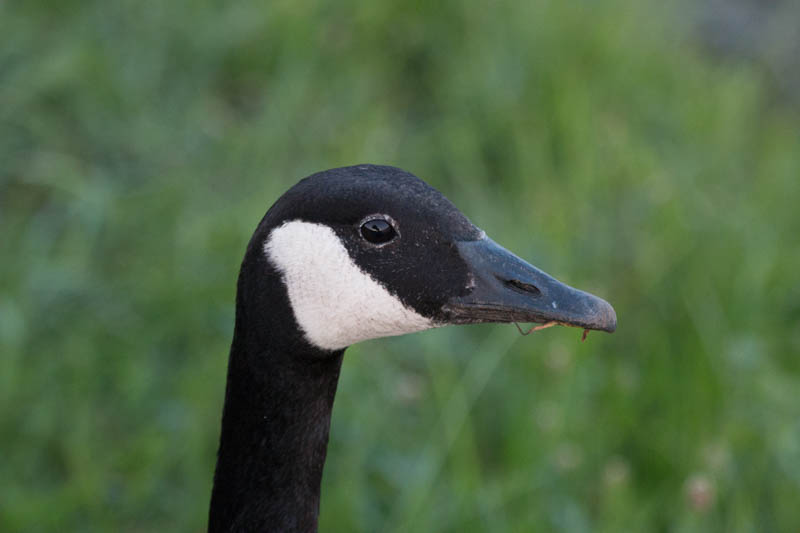goose-head: (228, 165, 619, 353)
